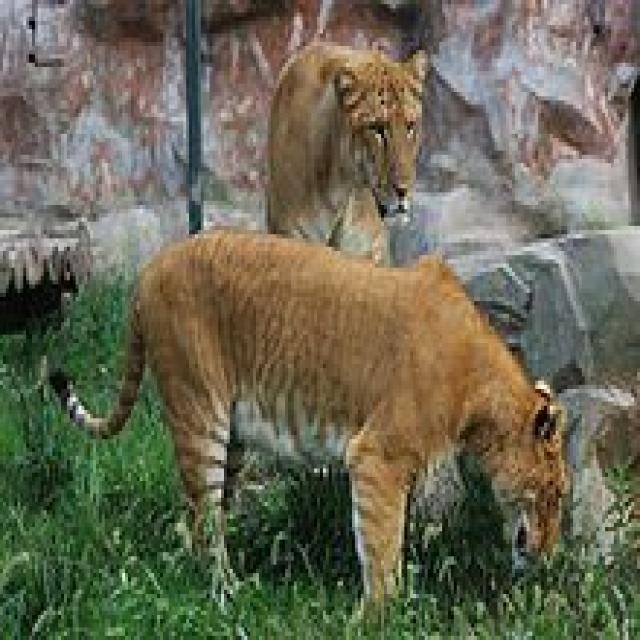Jaguar: (47, 230, 570, 640)
